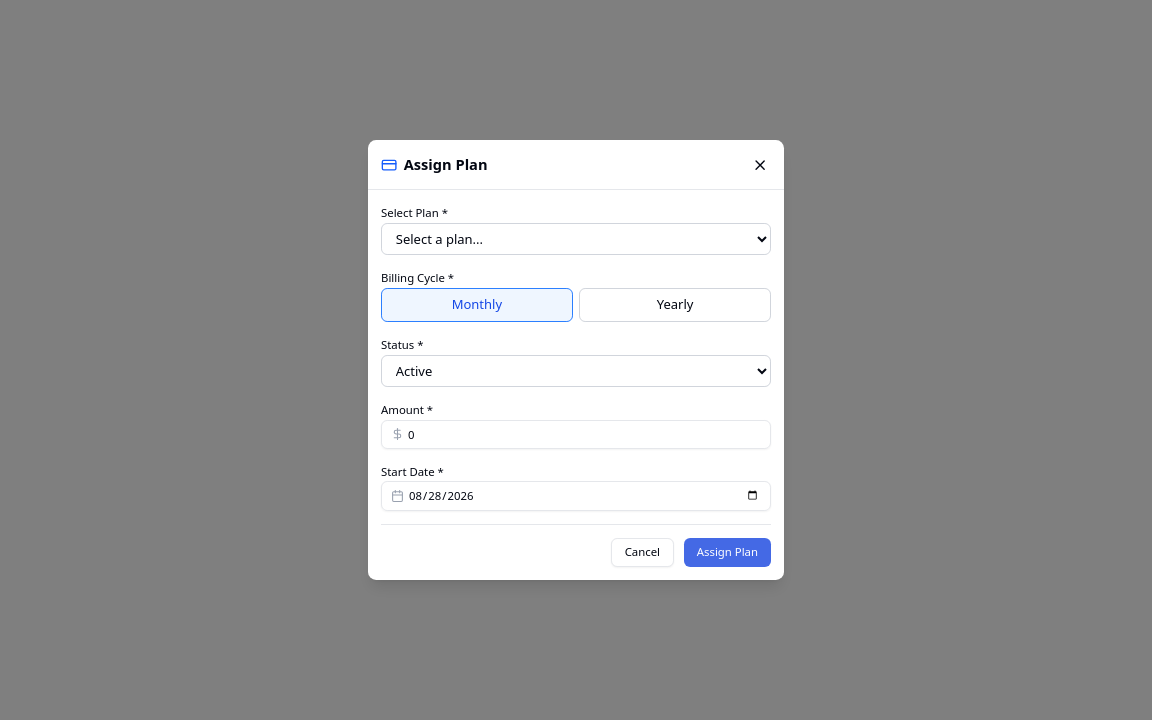
Test: AssignPlanModal yearly amount › uses the plan's stored yearly discount rather than a hardcoded 20% (UAC-8)
The width and height of the screenshot is (1152, 720).
Select "Growth - $2500/monthly" in the dropdown labelled "Select Plan *" at (576, 239), box x1=381 y1=222 x2=771 y2=255
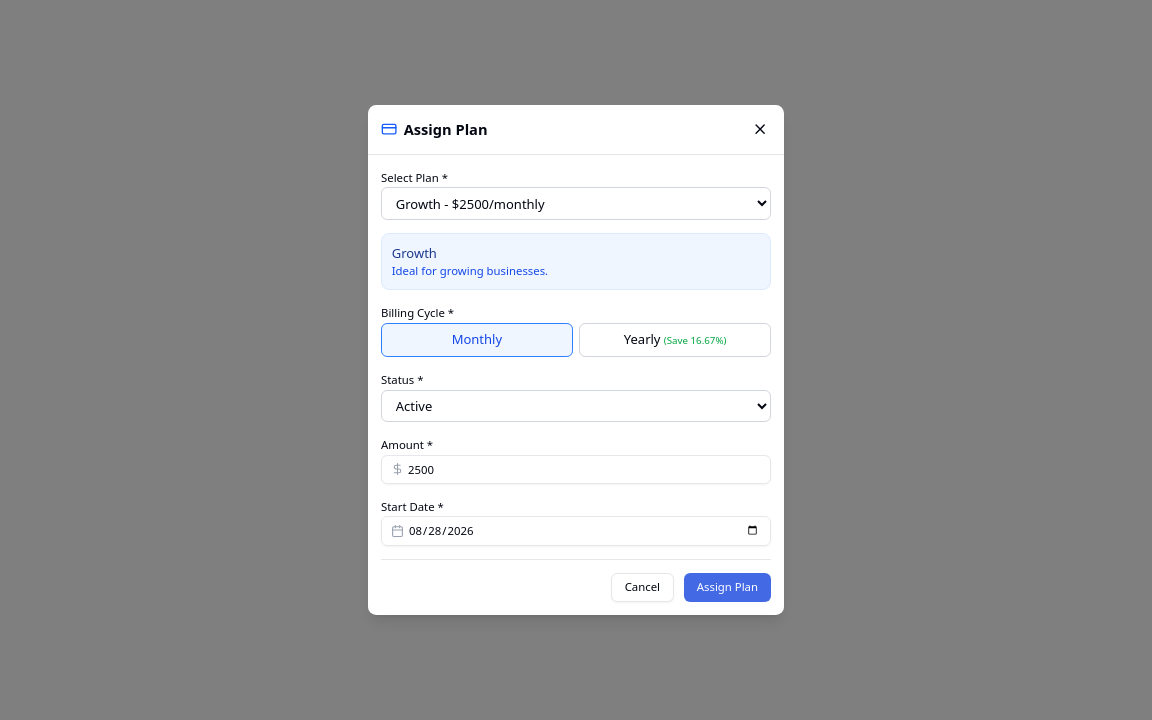
Click the button "Yearly(Save 16.67%)" at (675, 340), box x1=579 y1=323 x2=771 y2=357
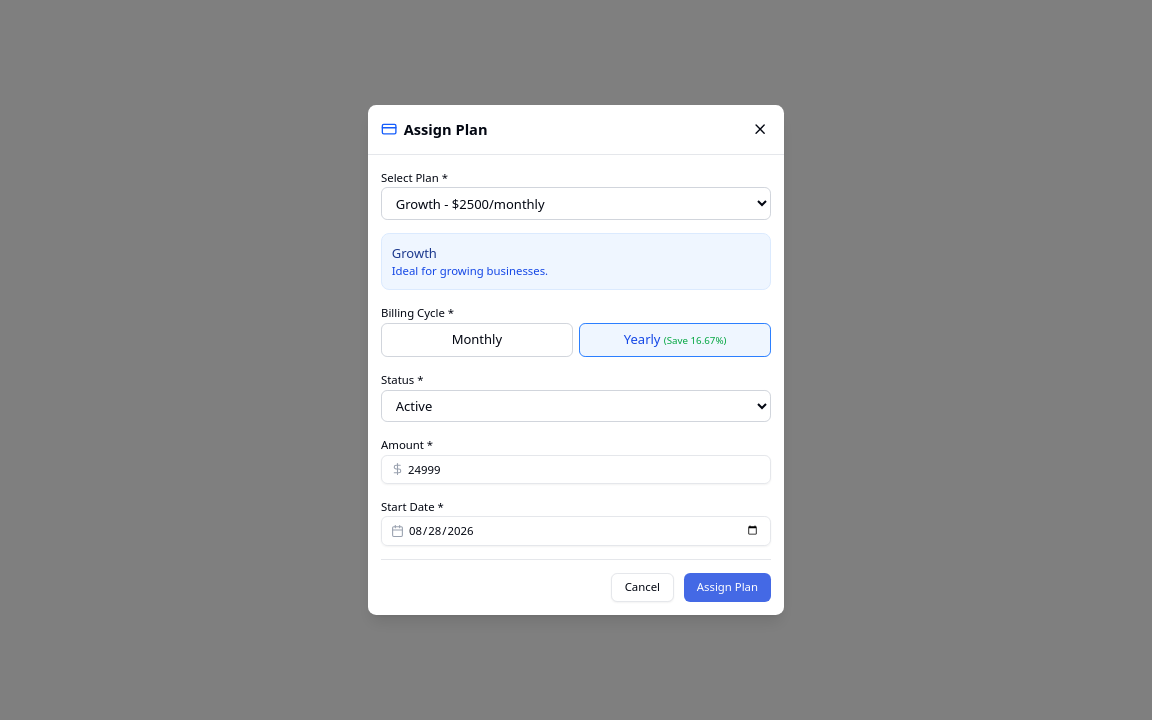
Check: the number field labelled "Amount *" holds "24999", box x1=381 y1=455 x2=771 y2=484
